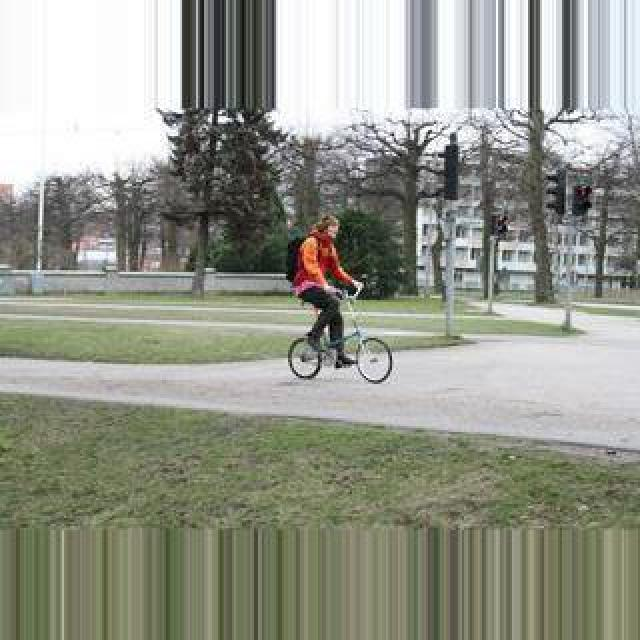MC-Bike: (294, 214, 364, 364)
Person: (288, 290, 394, 382)
